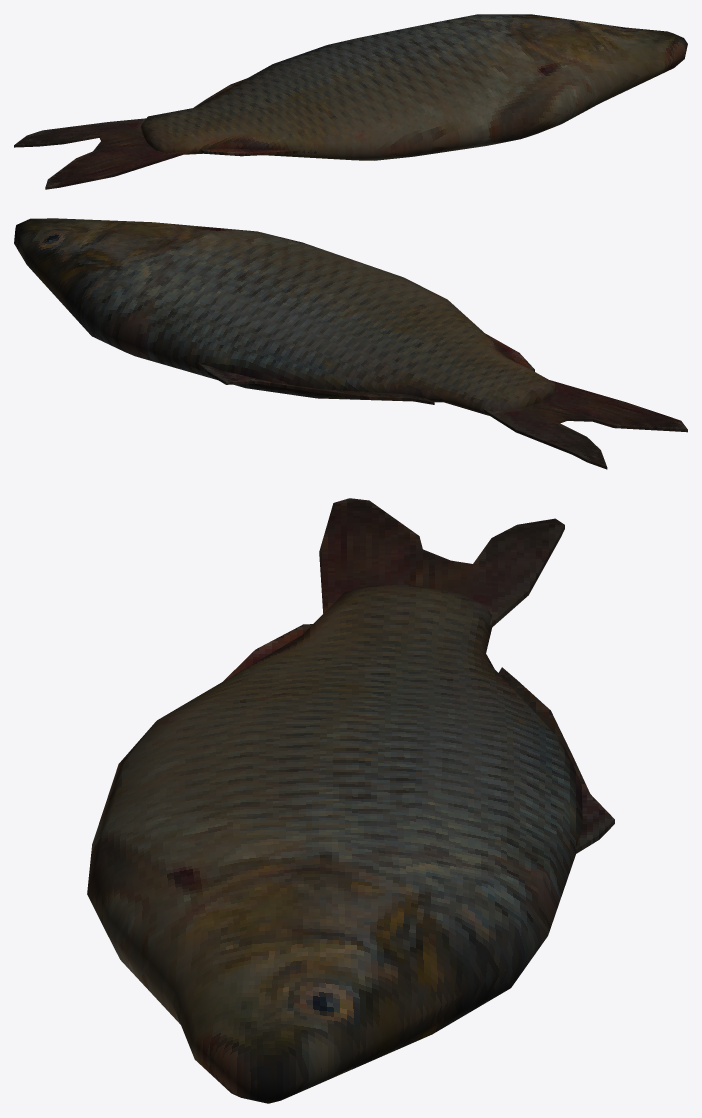
Rendered from fish_mx_1.glb.
The picture shows the model from 3 angles, top to bottom: view 1: azimuth 30°, elevation 25°; view 2: azimuth 150°, elevation 25°; view 3: azimuth 270°, elevation 25°; orthographic projection. The views are drawn at different scales.
Parts seen in each view (by area): view 1: fish_mx_1; view 2: fish_mx_1; view 3: fish_mx_1.
Boxes of the visible parts, x1,y1,x2,y2 form: fish_mx_1: (14,14,687,189); fish_mx_1: (14,218,687,469); fish_mx_1: (87,498,614,1103).
Bounding box in the file's own units: 0.5561 × 0.0641 × 0.2052.
1 material, 1 textured.
